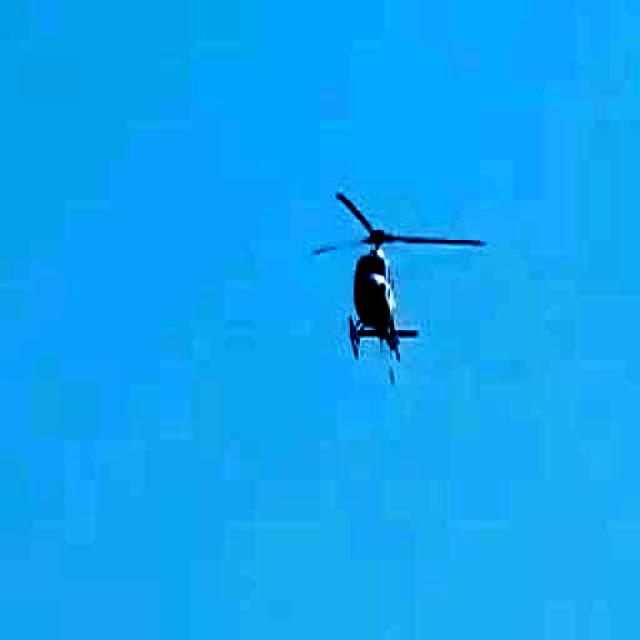drone: (278, 180, 475, 404)
